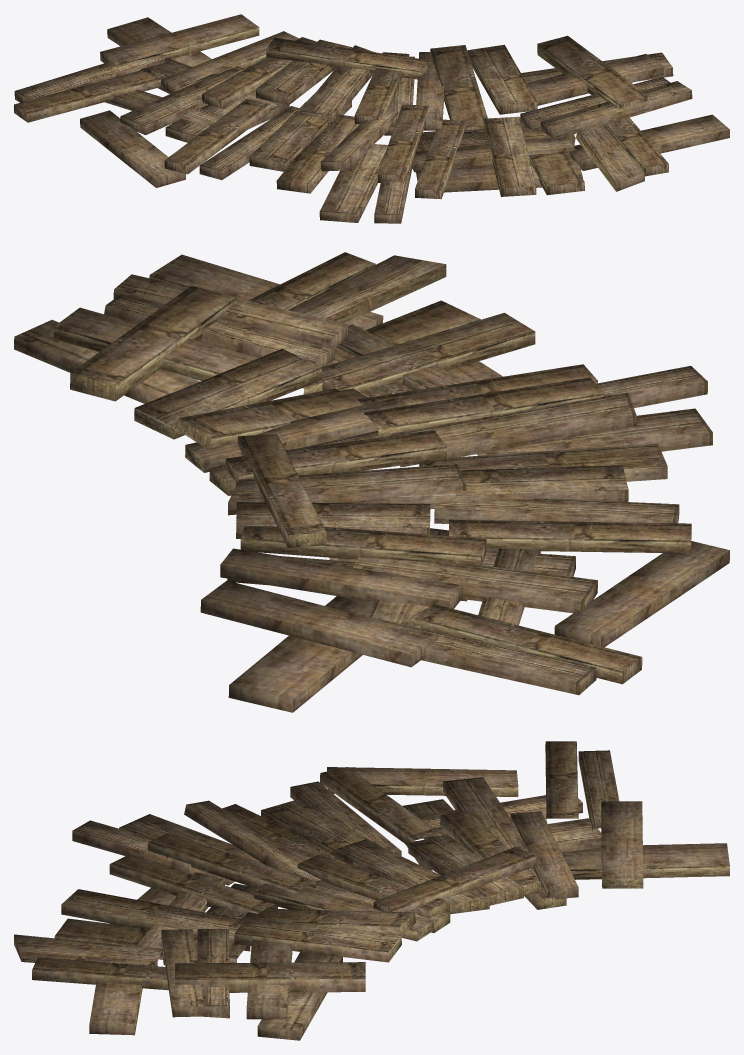
Rendered from S_Build_West047.FBX.
The picture shows the model from 3 angles, top to bottom: view 1: azimuth 30°, elevation 25°; view 2: azimuth 150°, elevation 25°; view 3: azimuth 270°, elevation 25°; orthographic projection. The views are drawn at different scales.
Parts seen in each view (by area): view 1: S_Build_West047; view 2: S_Build_West047; view 3: S_Build_West047.
Boxes of the visible parts, left/top/right/bottom form: S_Build_West047: left=14, top=14, right=729, bottom=223; S_Build_West047: left=14, top=252, right=729, bottom=712; S_Build_West047: left=14, top=741, right=729, bottom=1040.
Size of the model in its own units: 1055 by 1061 by 85.85.
